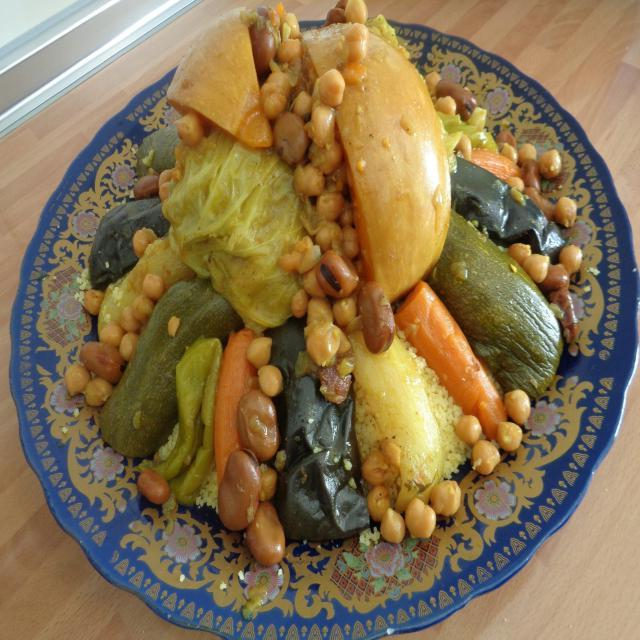Couscous: (13, 0, 632, 640)
